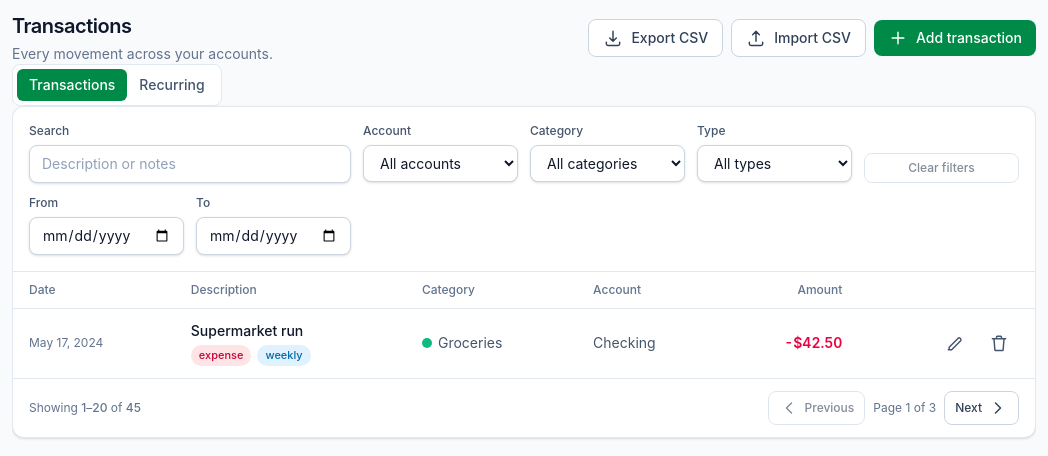
Test case: TransactionsPage › switches to the recurring tab and lists rules
Expected: the text "Supermarket run" is shown, [191,322,303,339]
Click the tab "Recurring": coordinates (172, 85) [127,69,217,101]
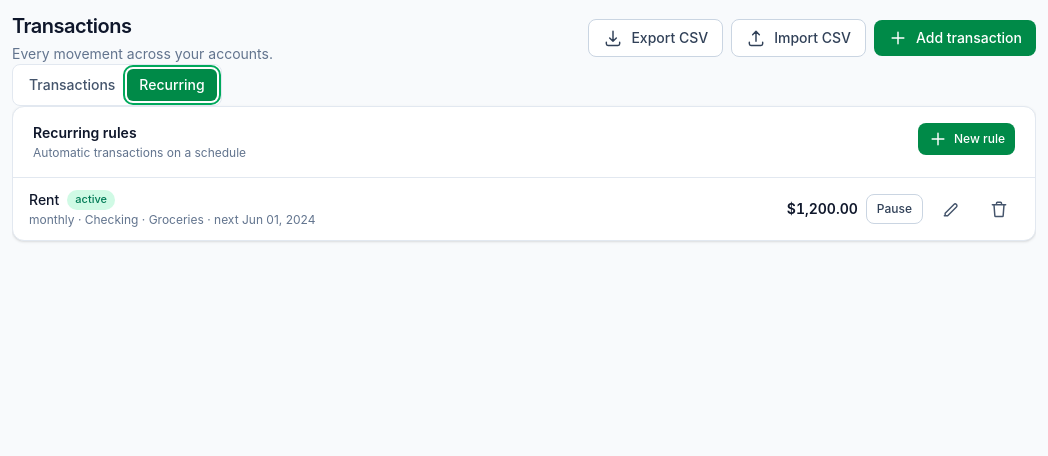
Expected: the text "Rent" is shown, [29,191,59,208]
Expected: the text "active" is shown, [67,190,115,210]
Expected: the text "$1,200.00" is shown, [787,199,858,219]
